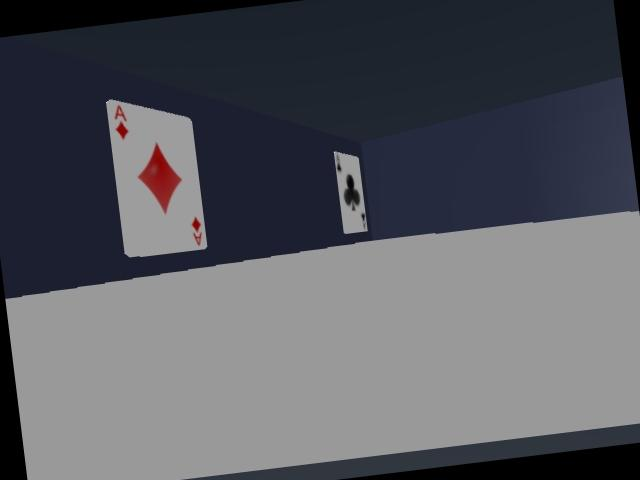club: (334, 152, 367, 233)
diamond: (106, 100, 206, 256)
